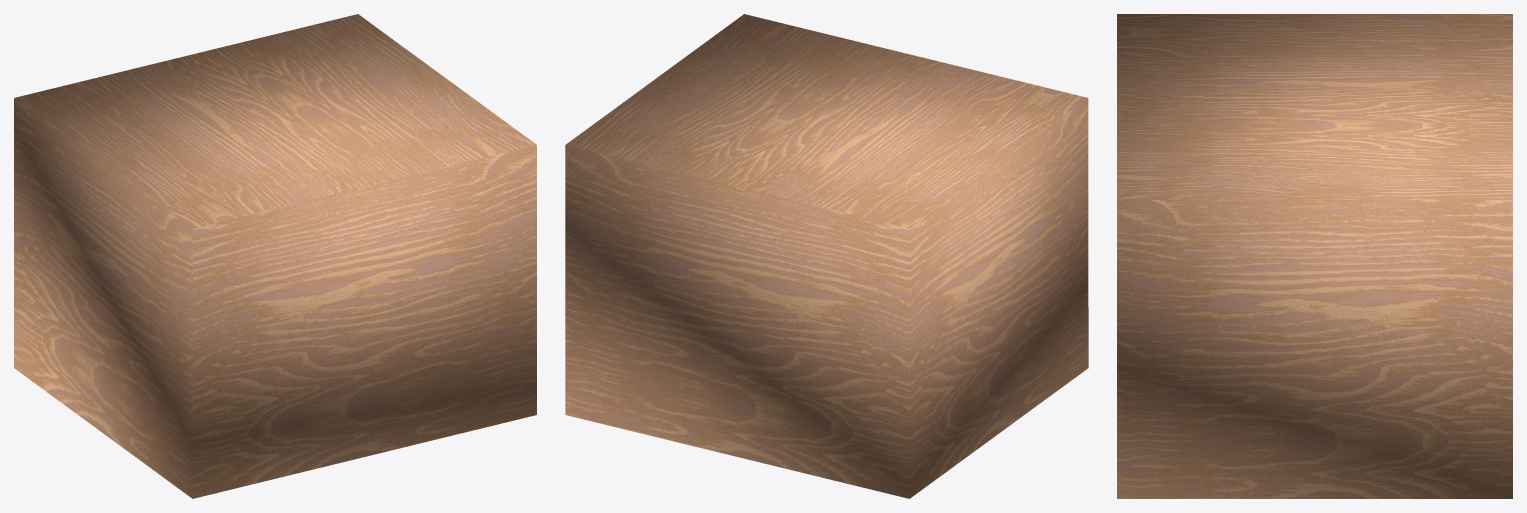
3 renders of one model, left to right at view 1: azimuth 30°, elevation 25°; view 2: azimuth 150°, elevation 25°; view 3: azimuth 270°, elevation 25°, orthographic. The views are drawn at different scales.
Parts seen in each view (by area): view 1: base_link; view 2: base_link; view 3: base_link.
Part boxes in pixels (left/top/right/bottom): base_link: left=14, top=14, right=536, bottom=498; base_link: left=565, top=14, right=1088, bottom=498; base_link: left=1117, top=14, right=1512, bottom=498.
Size of the model in its own units: 0.4002 by 0.3 by 0.36.
